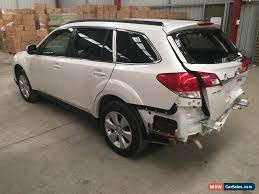Dent: (144, 89, 225, 147)
